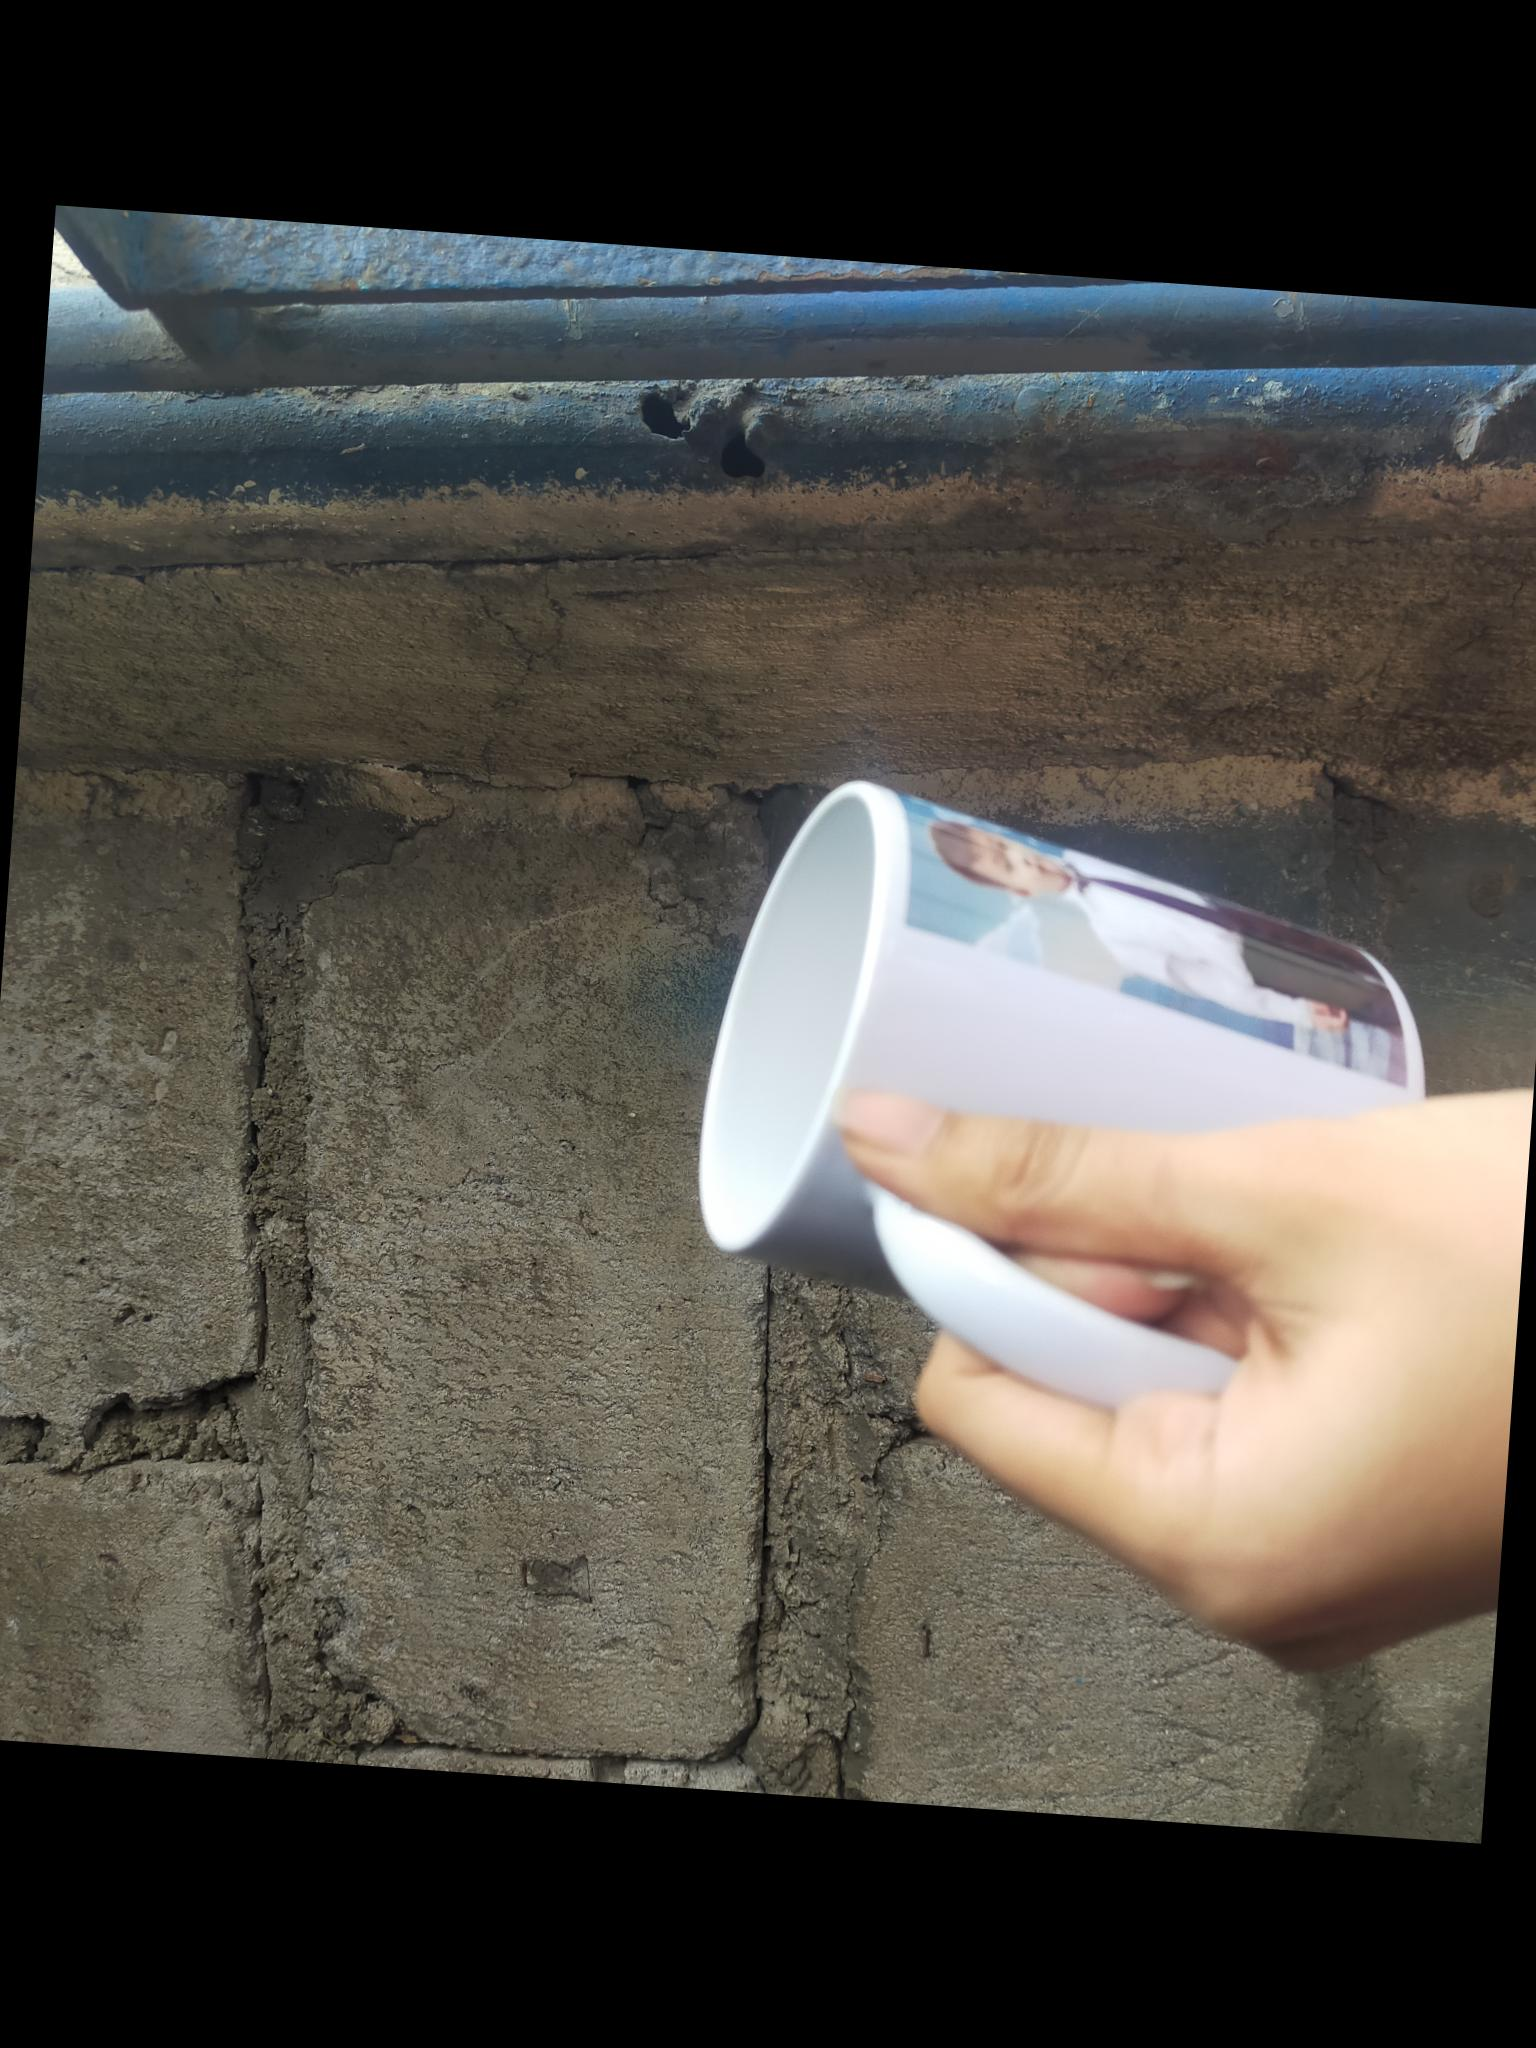Coffee Mug: (686, 764, 1446, 1419)
